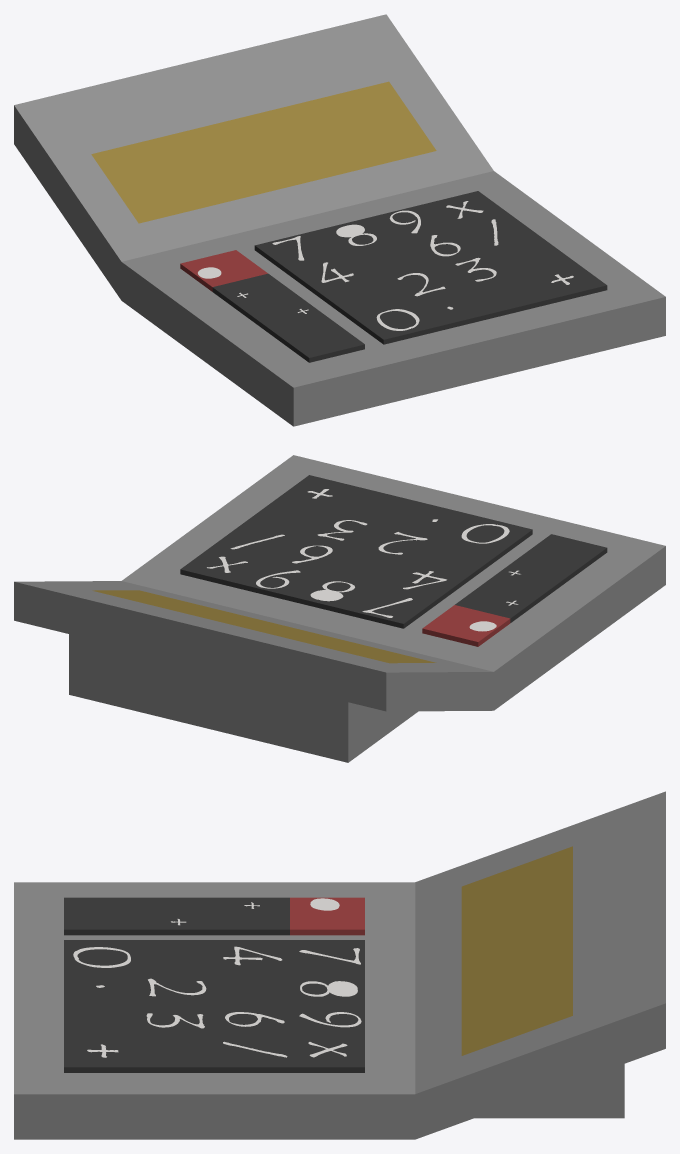
The picture shows the model from 3 angles, top to bottom: view 1: azimuth 30°, elevation 25°; view 2: azimuth 150°, elevation 25°; view 3: azimuth 270°, elevation 25°; orthographic projection. The views are drawn at different scales.
Visible parts, largest first — view 1: SketchUp (×5); view 2: SketchUp (×5); view 3: SketchUp (×5), instance_7.
Part boxes in pixels (bbox=[...]): SketchUp (×5): bbox=[14, 14, 665, 426]; SketchUp (×5): bbox=[14, 455, 665, 762]; SketchUp (×5): bbox=[14, 791, 665, 1139]; instance_7: bbox=[300, 981, 357, 996].
Bounding box in the file's own units: 5 × 6.5 × 1.5.
